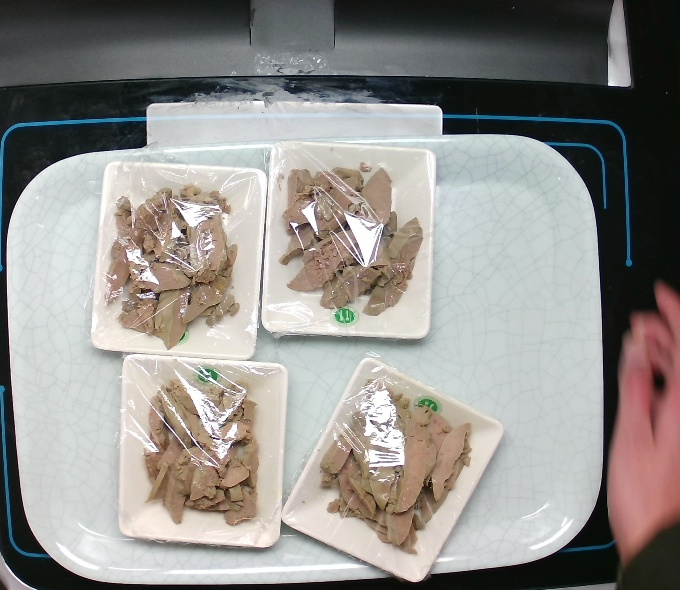wcq-EGan: (319, 381, 475, 557), (280, 162, 430, 318), (104, 183, 245, 346), (142, 376, 266, 530)
